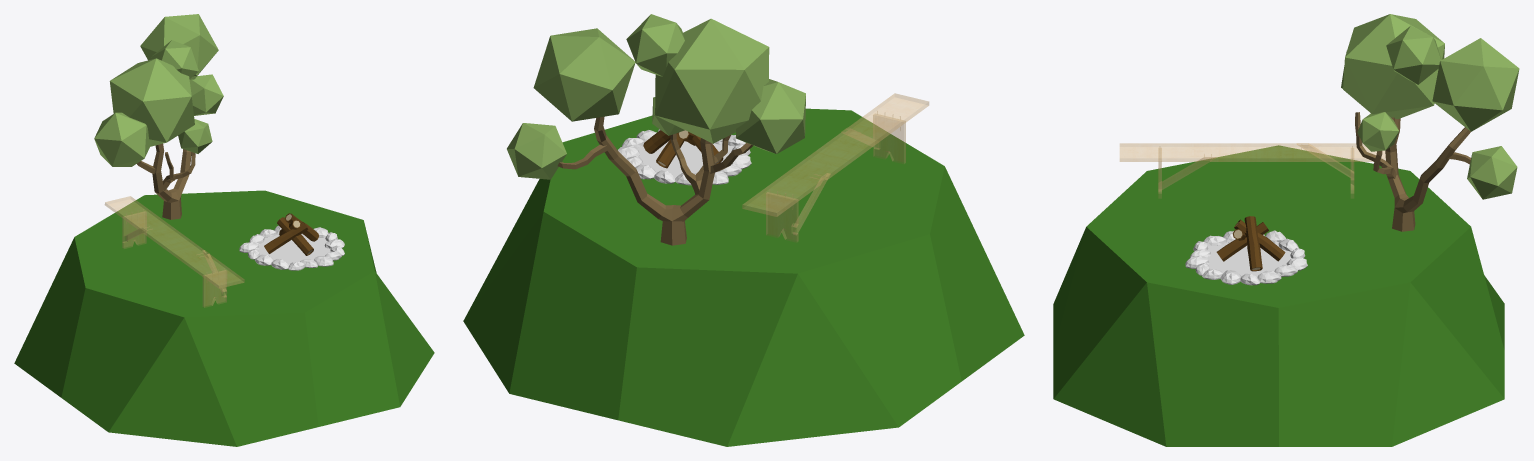
3 views of the same model, side by side, from view 1: azimuth 30°, elevation 25°; view 2: azimuth 150°, elevation 25°; view 3: azimuth 270°, elevation 25° (orthographic). The views are drawn at different scales.
Visible parts, largest first — view 1: ground, tree, bench, campfire; view 2: ground, tree, bench, campfire; view 3: ground, tree, bench, campfire.
Boxes of the visible parts, left/top/right/bottom form: ground: left=14, top=190, right=434, bottom=446; tree: left=94, top=14, right=223, bottom=219; bench: left=105, top=196, right=244, bottom=307; campfire: left=239, top=213, right=344, bottom=270; ground: left=463, top=108, right=1024, bottom=446; tree: left=507, top=14, right=805, bottom=245; bench: left=742, top=93, right=928, bottom=242; campfire: left=617, top=129, right=751, bottom=185; ground: left=1053, top=145, right=1504, bottom=446; tree: left=1341, top=14, right=1519, bottom=231; bench: left=1120, top=143, right=1385, bottom=198; campfire: left=1185, top=216, right=1307, bottom=285.
Bounding box in the file's own units: 32.2 × 25.82 × 33.25.
6 materials, 1 textured.
